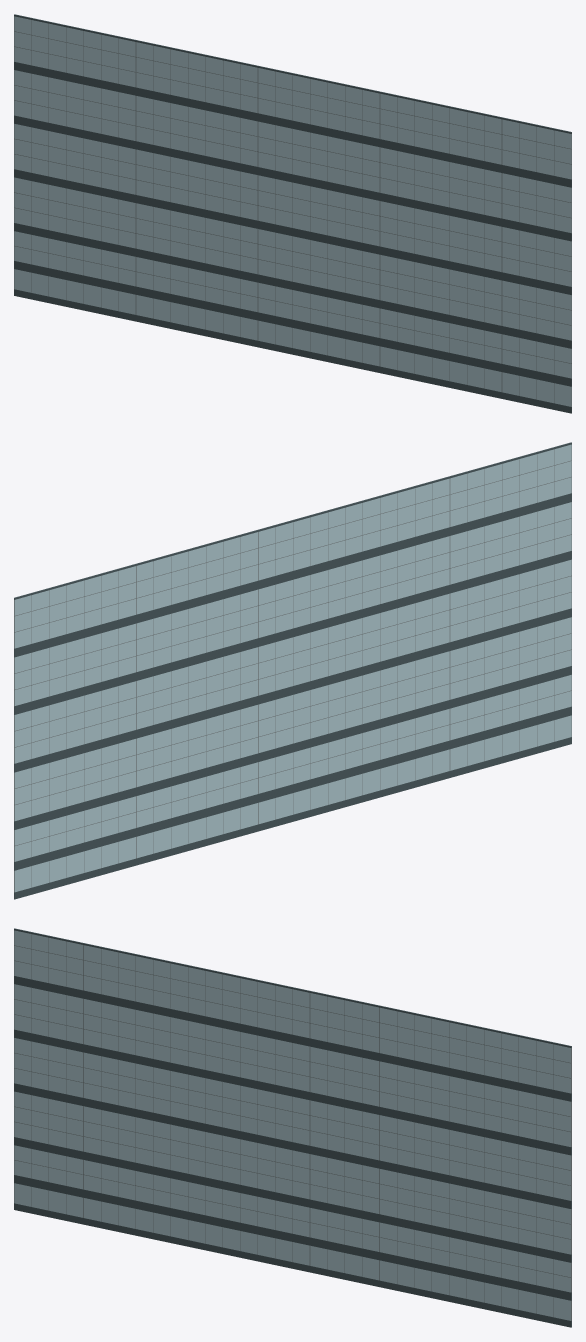
Rendered from G7_MiddleExteriorSkin_E01_r001.glb.
The picture shows the model from 3 angles, top to bottom: view 1: azimuth 90°, elevation 25°; view 2: azimuth 150°, elevation 25°; view 3: azimuth 270°, elevation 25°; orthographic projection. The views are drawn at different scales.
Visible parts, largest first — view 1: G7_MiddleSkin_E01_glazing, G7_MiddleSkin_E01_spandrel, G7_MiddleSkin_E01_joint; view 2: G7_MiddleSkin_E01_glazing, G7_MiddleSkin_E01_spandrel, G7_MiddleSkin_E01_joint; view 3: G7_MiddleSkin_E01_glazing, G7_MiddleSkin_E01_spandrel, G7_MiddleSkin_E01_joint.
Part boxes in pixels (x1,y1,x2,y2): G7_MiddleSkin_E01_glazing: (14,16,571,406); G7_MiddleSkin_E01_spandrel: (14,14,571,413); G7_MiddleSkin_E01_joint: (14,16,571,406); G7_MiddleSkin_E01_glazing: (14,444,571,892); G7_MiddleSkin_E01_spandrel: (14,442,571,899); G7_MiddleSkin_E01_joint: (14,444,571,892); G7_MiddleSkin_E01_glazing: (14,930,570,1320); G7_MiddleSkin_E01_spandrel: (14,928,571,1327); G7_MiddleSkin_E01_joint: (14,930,571,1320).
Bounding box in the file's own units: 40.12 × 44.5 × 80.03.
3 materials, 2 textured.
